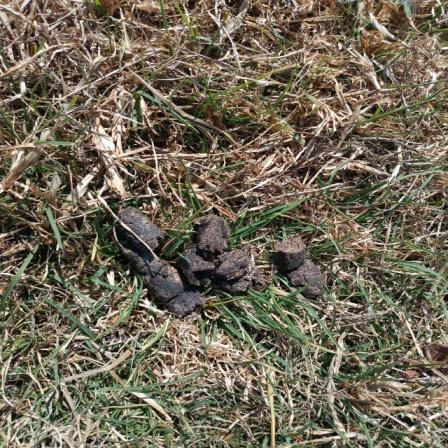dog-poop: (108, 191, 270, 317), (270, 221, 330, 299)
